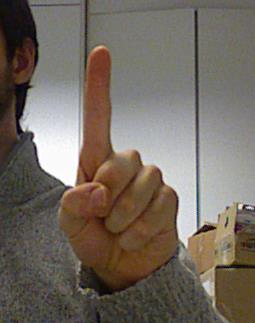up: (52, 43, 182, 270)
